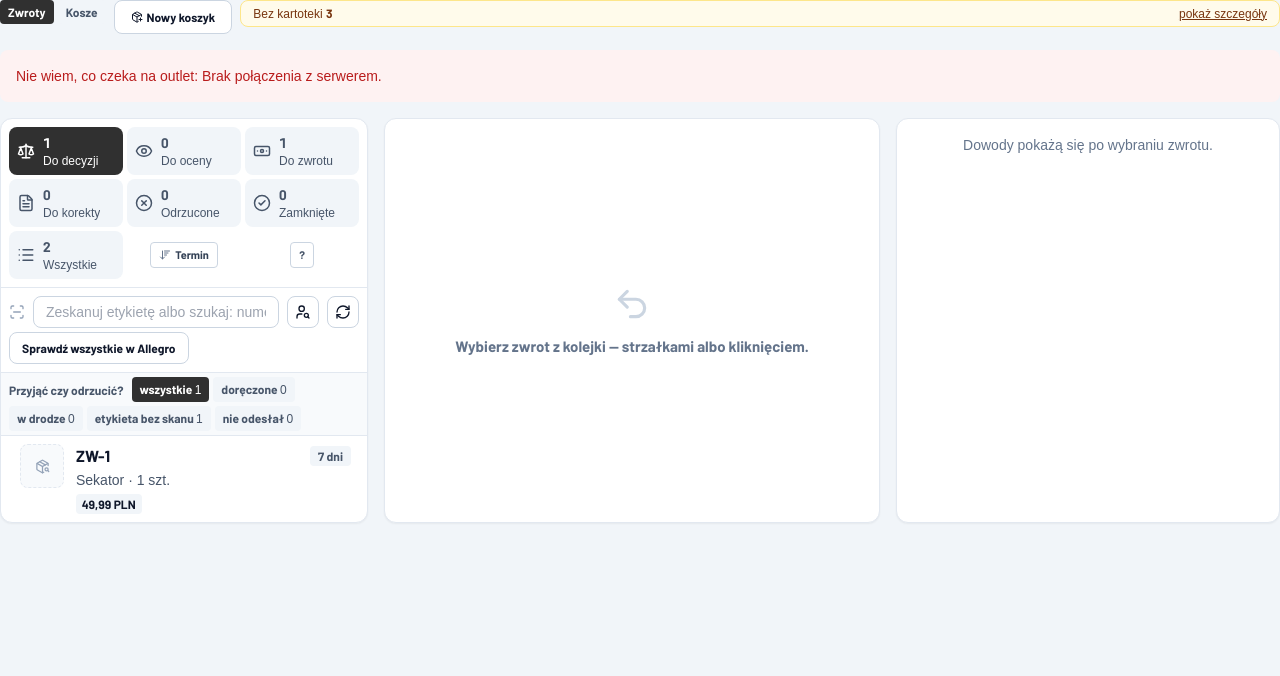
Test case: Ekran zwrotów › fragment pokazuje zwrot z CUDZEGO kubełka razem z jego etykietą
This screenshot has width=1280, height=676.
Type "ZW-2" into the field with placeholder "Zeskanuj etykietę". click: (156, 312)
box: left=33, top=296, right=279, bottom=328
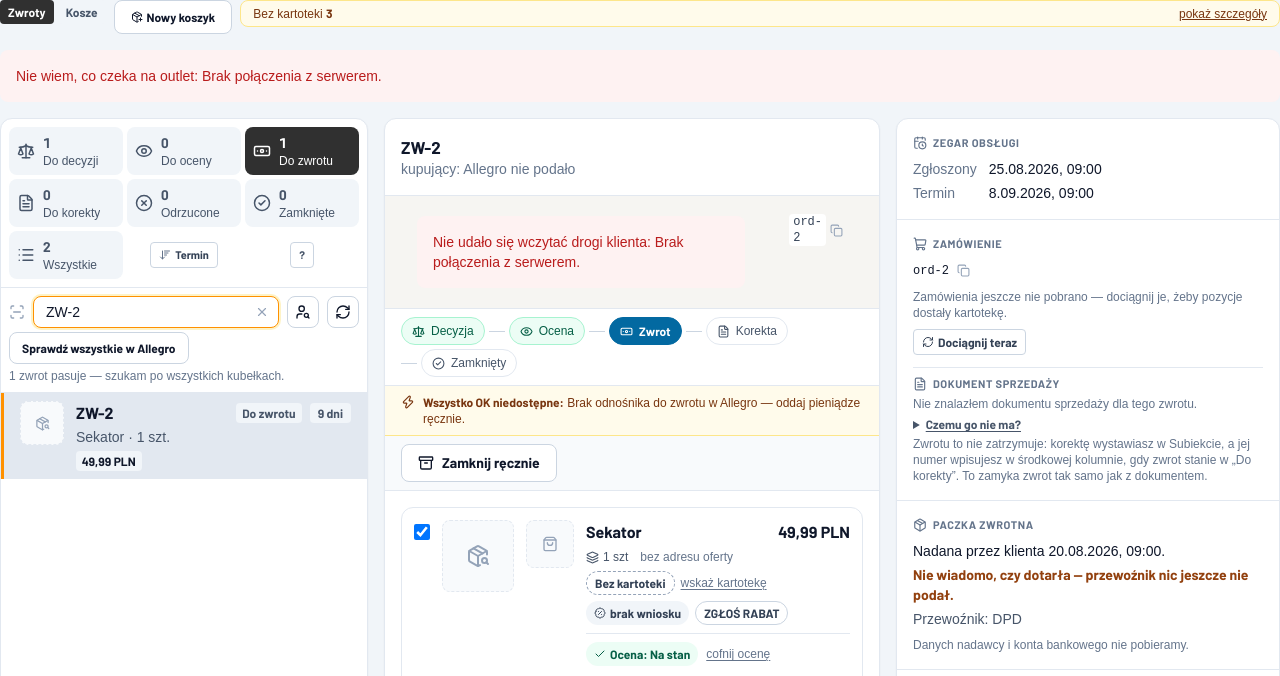
Expected: the 1st text "Do zwrotu" is shown, left=279, top=153, right=333, bottom=169
Expected: the text "1 zwrot pasuje — szukam po wszystkich kubełkach." is shown, left=9, top=369, right=284, bottom=383
